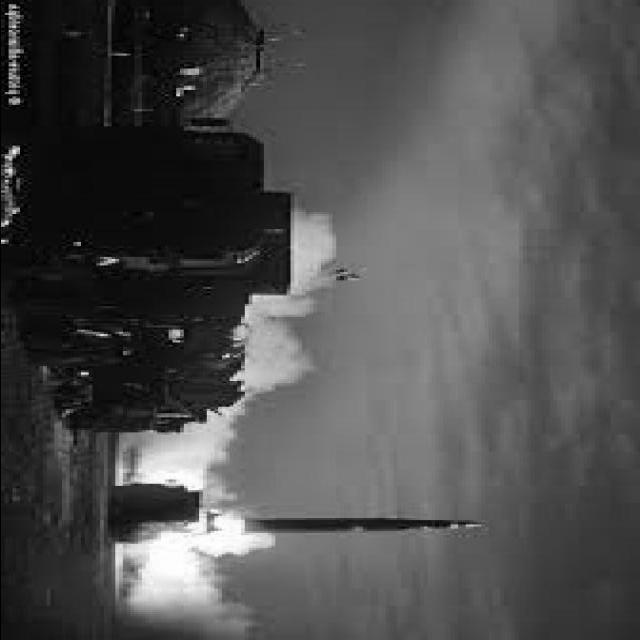Missile: (235, 516, 496, 533)
